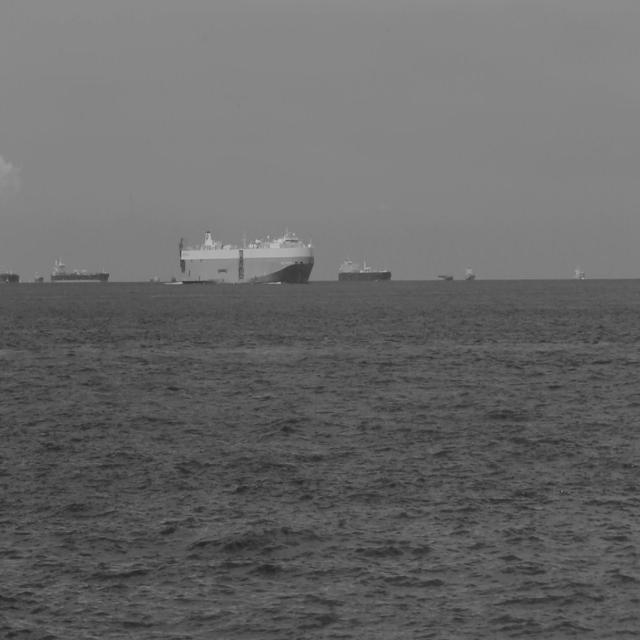boat: (150, 274, 160, 284)
ship: (178, 227, 314, 287), (50, 255, 110, 285), (338, 254, 392, 283), (0, 264, 20, 285), (464, 264, 476, 282), (573, 263, 585, 281), (34, 269, 44, 285), (437, 273, 454, 281), (4, 276, 10, 284)
